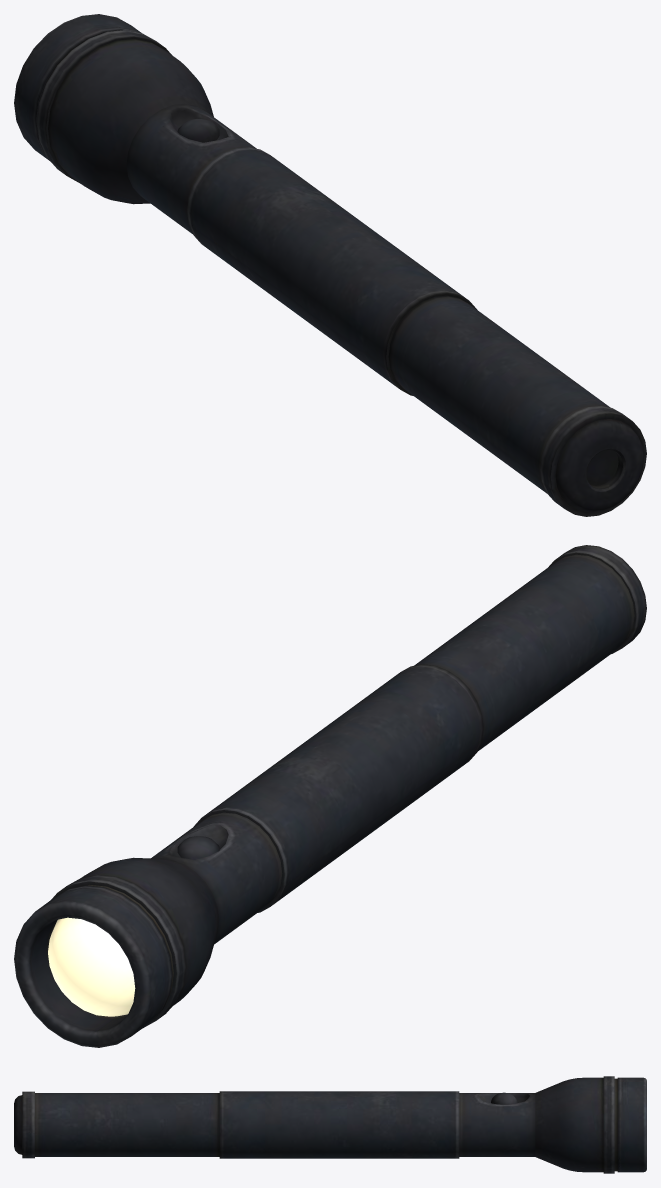
The model's file is flashlight.glb.
3 renders of one model, top to bottom at view 1: azimuth 30°, elevation 25°; view 2: azimuth 150°, elevation 25°; view 3: azimuth 270°, elevation 25°, orthographic. The views are drawn at different scales.
Visible parts, largest first — view 1: flashlight__0; view 2: flashlight__0; view 3: flashlight__0.
Boxes of the visible parts, bbox=[...] form: flashlight__0: bbox=[14, 14, 646, 516]; flashlight__0: bbox=[14, 545, 646, 1047]; flashlight__0: bbox=[14, 1076, 646, 1173].
Size of the model in its own units: 0.0323 by 0.0323 by 0.21.
1 material, 1 textured.
